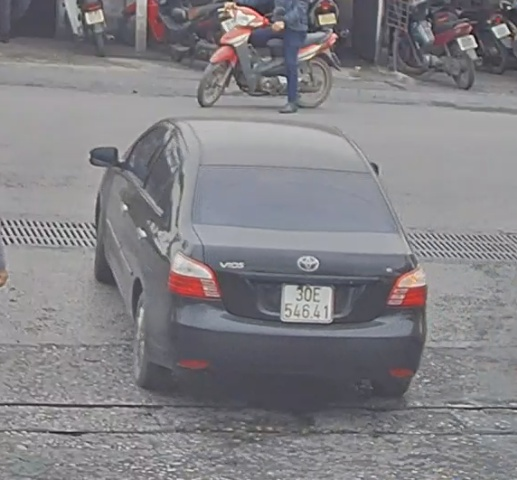vehicle plate: (280, 277, 343, 327)
